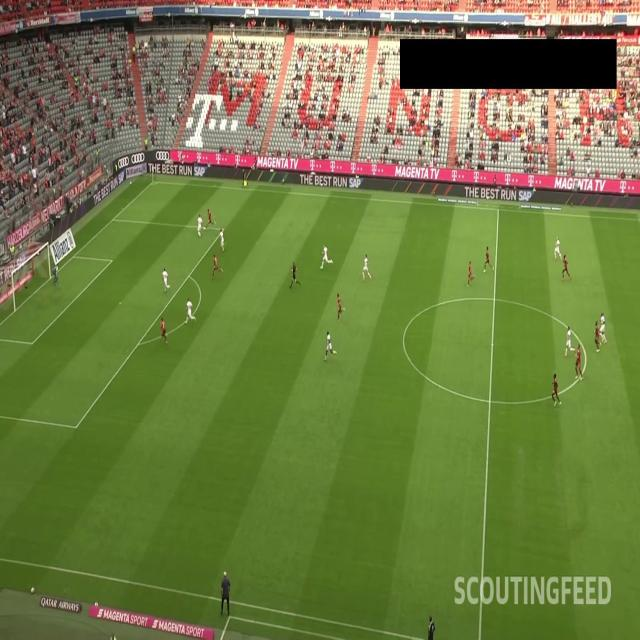ball: (203, 223, 207, 233)
player: (324, 330, 337, 362), (564, 324, 576, 356), (574, 344, 584, 382), (551, 372, 562, 406), (319, 243, 333, 269), (212, 250, 224, 280), (598, 310, 608, 344), (483, 244, 494, 274), (361, 252, 372, 281), (159, 315, 169, 346), (161, 265, 171, 295), (553, 235, 564, 262), (336, 290, 345, 322), (185, 298, 196, 324), (466, 259, 476, 287), (205, 208, 216, 231), (562, 252, 571, 280), (51, 262, 60, 287), (196, 212, 204, 238), (219, 227, 227, 252), (594, 320, 600, 353)
referee: (289, 258, 301, 290), (241, 168, 248, 187)
